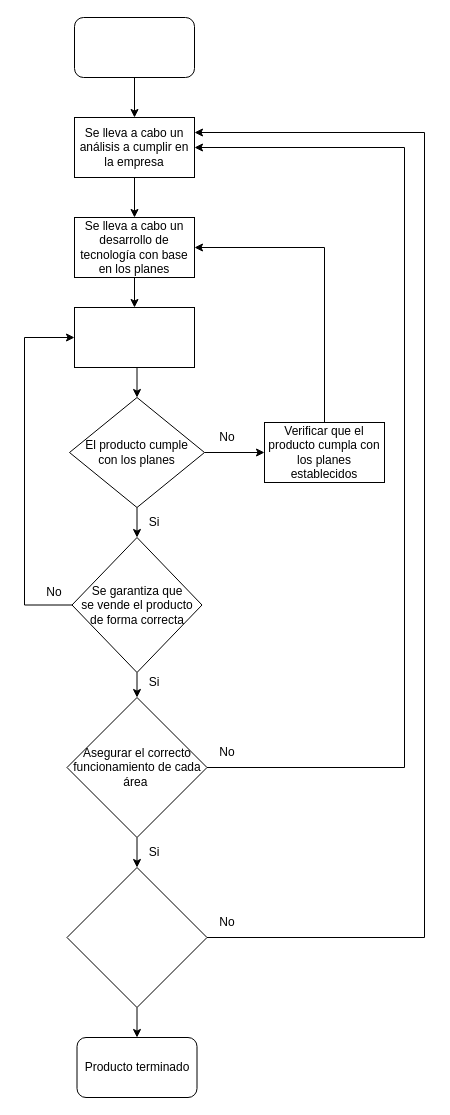
Some shapes in this 450 by 1115 pixel diagram are drawn without their labels. Each missing label, with the centre of its shape:
"Inicio del proceso" goes at pixel 134 47.
"Se trabaja de forma comercial lo desarrollado" goes at pixel 134 337.
"Se verifica cualquier otro inconveniente en el desarrollo" goes at pixel 136 937.
